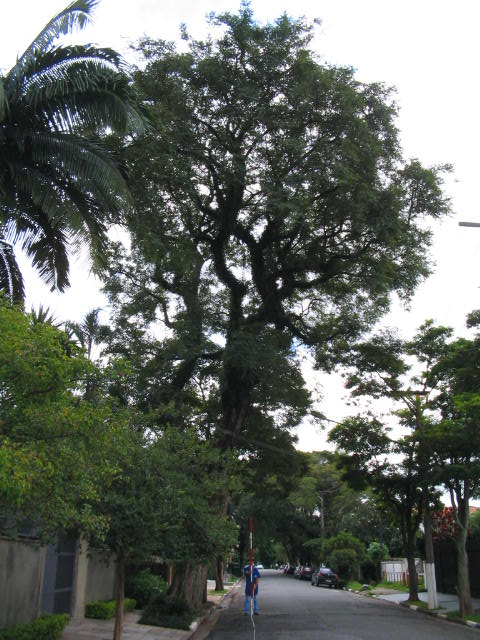crown: (75, 1, 458, 361)
stem: (154, 364, 243, 614)
stick: (242, 519, 257, 618)
tree: (75, 1, 458, 615)
